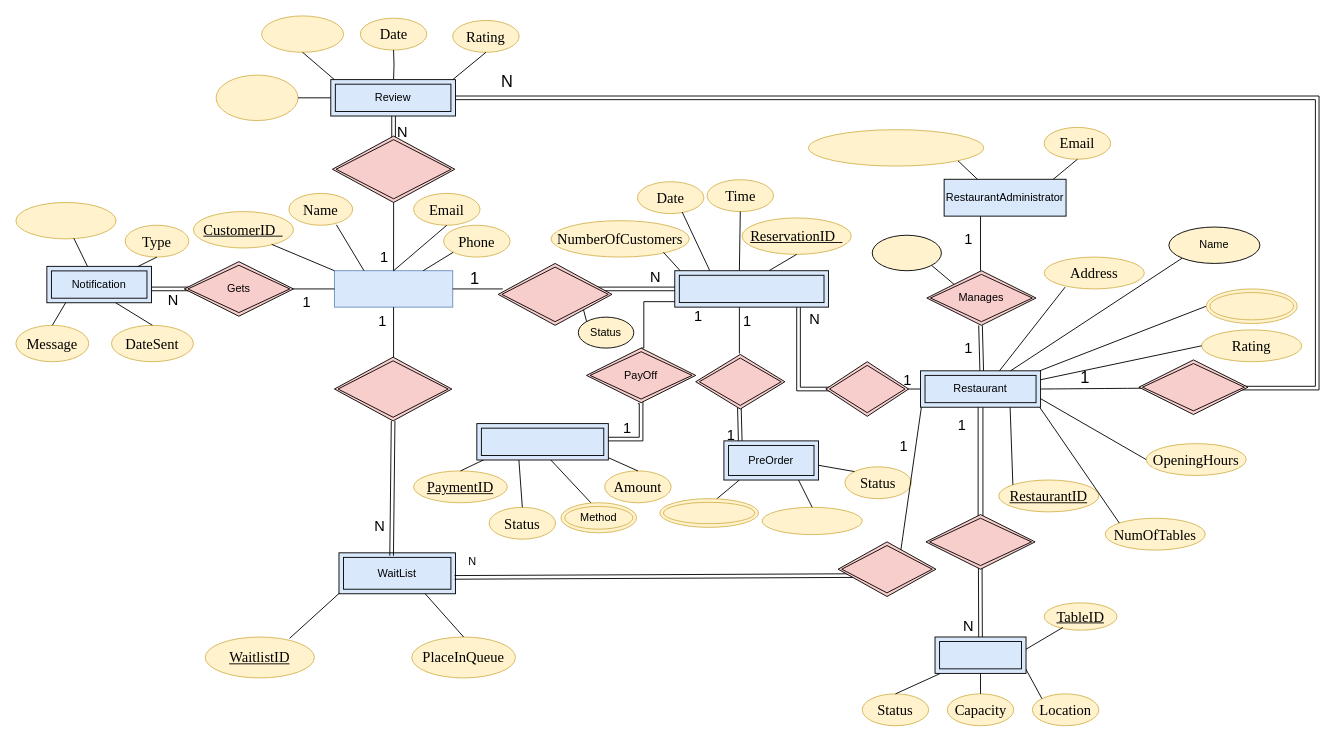
Some shapes in this 1335 by 742 pixel diagram are drawn without their labels. Each missing label, with the centre of its shape:
BelongsTo: (x=867, y=388)
Comments: (x=302, y=33)
Customer: (x=393, y=288)
Has: (x=980, y=541)
Include: (x=740, y=381)
MakesOrCancels: (x=554, y=294)
Manages: (x=886, y=569)
Notification ID: (x=65, y=220)
Payment: (x=542, y=441)
PhoneNumber: (x=1251, y=306)
PreOrderID: (x=811, y=520)
Registers: (x=393, y=388)
Reservation: (x=751, y=288)
RestaurantAdministratorID: (x=896, y=147)
Review ID: (x=256, y=97)
SpecialRequests: (x=708, y=512)
StartDate: (x=906, y=252)
Table: (x=980, y=654)
Writes: (x=393, y=168)
WrittenFor: (x=1193, y=387)
